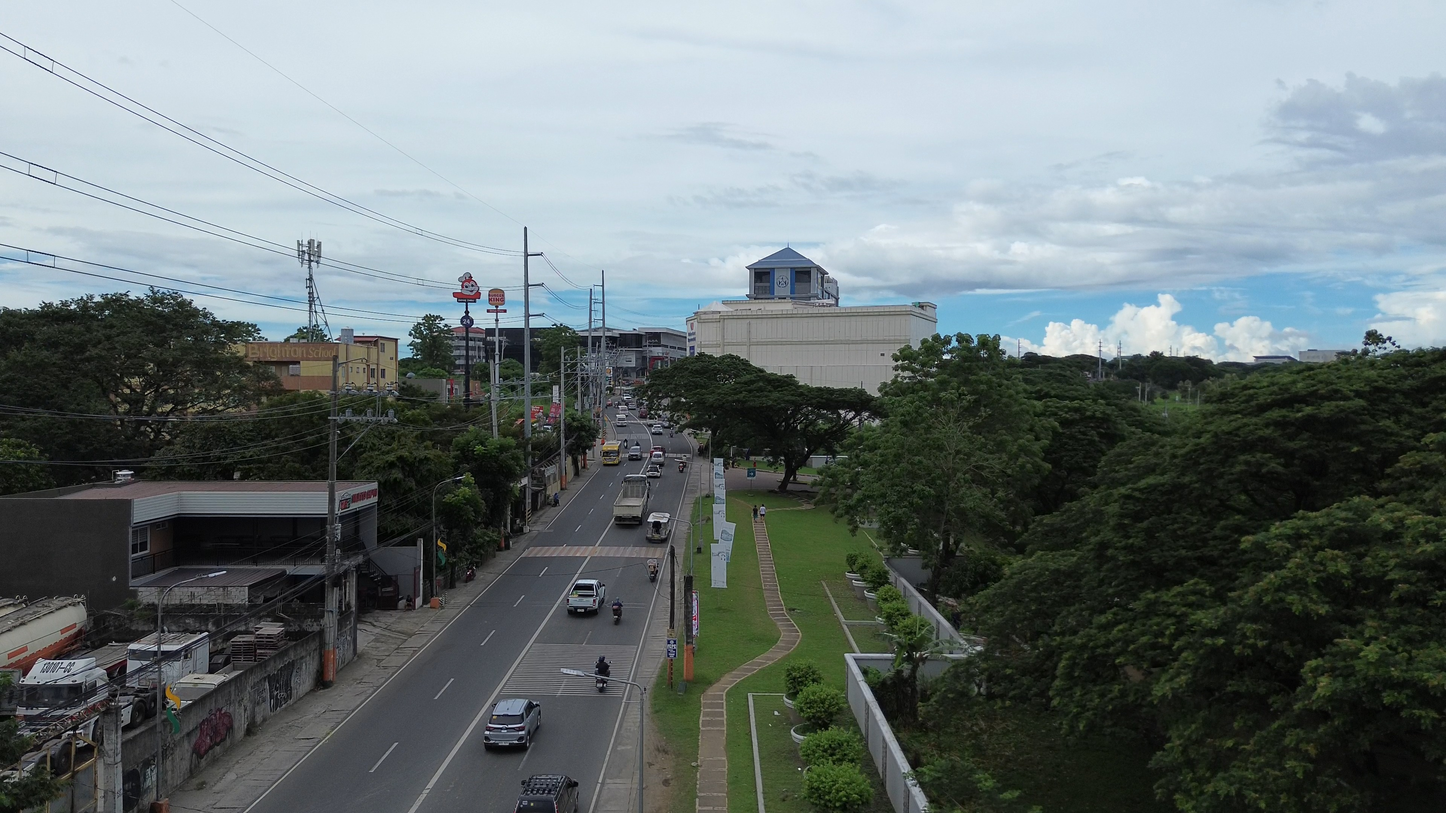bus: (601, 443, 620, 465)
car: (484, 699, 540, 749), (650, 449, 665, 466), (645, 463, 660, 478)
motorcycle: (647, 559, 659, 582), (612, 603, 622, 624), (464, 566, 474, 582), (678, 461, 685, 472)
truck: (16, 657, 112, 731)
vehicle: (16, 656, 111, 730), (0, 597, 87, 671), (160, 633, 209, 683), (515, 775, 578, 813), (172, 673, 234, 707), (613, 474, 651, 524), (566, 579, 605, 614), (645, 512, 673, 542), (611, 599, 623, 624), (647, 558, 659, 582), (650, 449, 665, 467), (644, 463, 661, 478), (628, 443, 642, 460), (615, 414, 628, 426), (650, 425, 664, 435)
